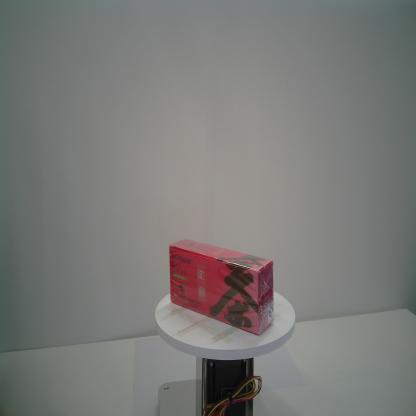Instant Drink: (169, 238, 274, 335)
